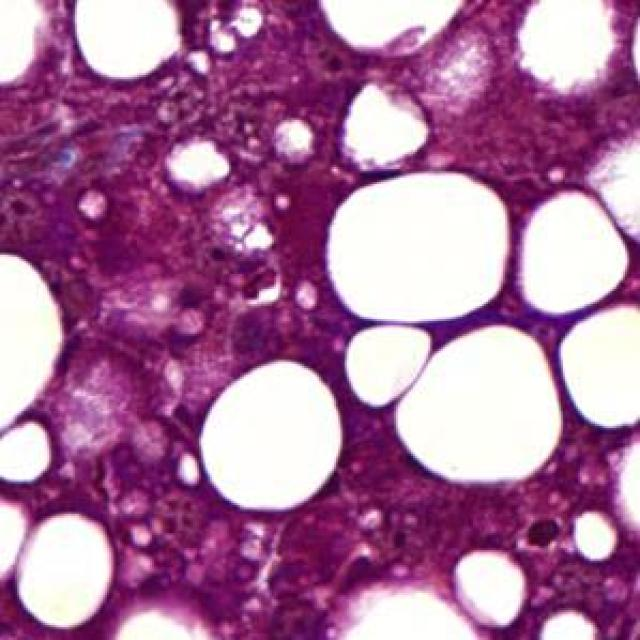steatosis: (321, 167, 512, 323), (201, 349, 349, 522), (520, 188, 632, 312)
